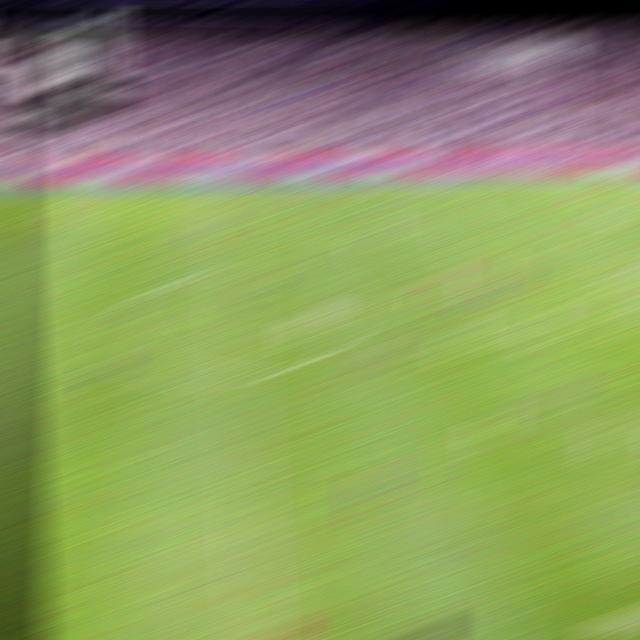bigarea_top_inner: (560, 213, 588, 220)
halfcircle_bottom: (222, 365, 257, 385)
halfcircle_top: (216, 264, 250, 277)
midline_top_intersection: (214, 183, 242, 189)
top_arc_area_intersection: (615, 258, 640, 266)
